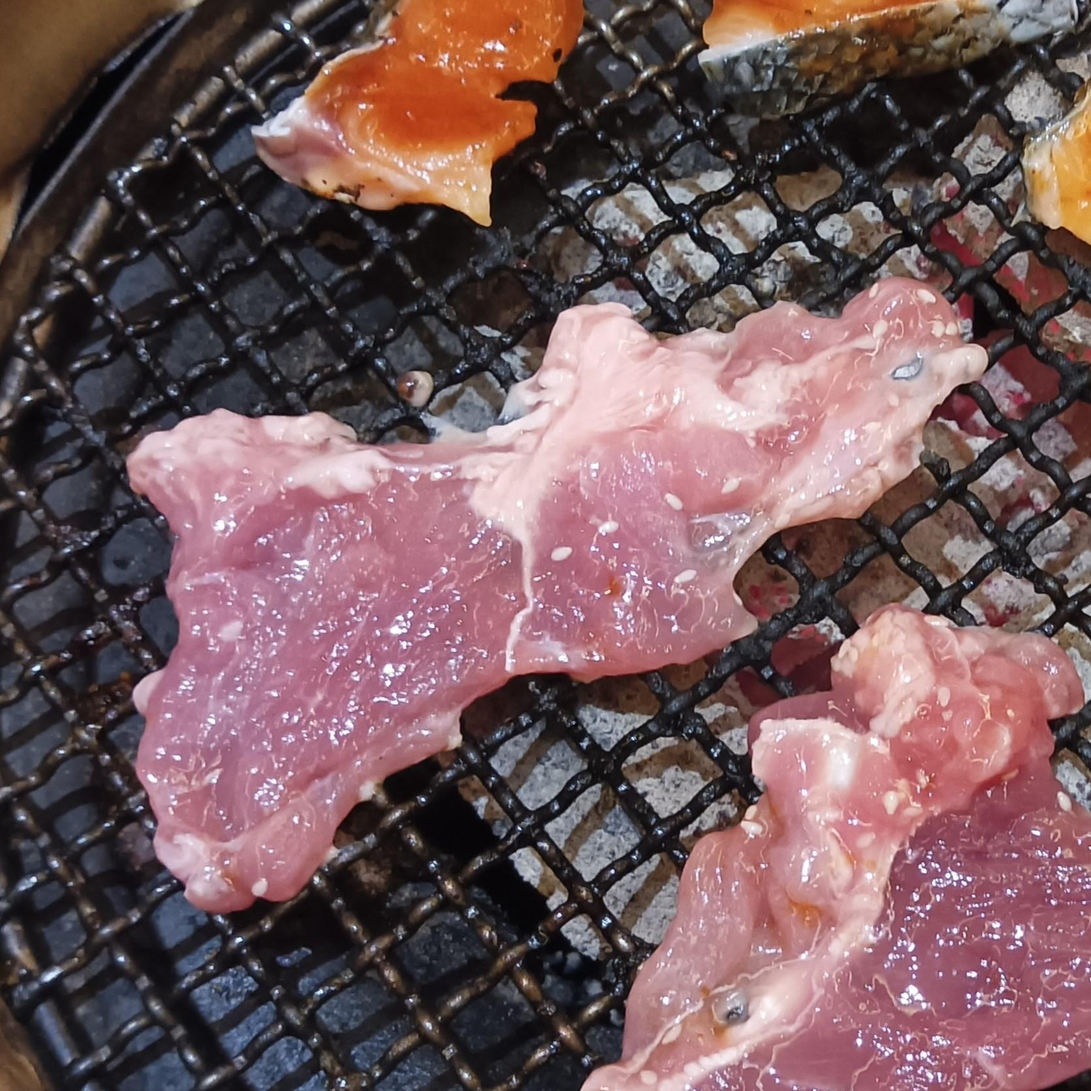Undercooked: (123, 280, 996, 920), (584, 605, 1090, 1090)
